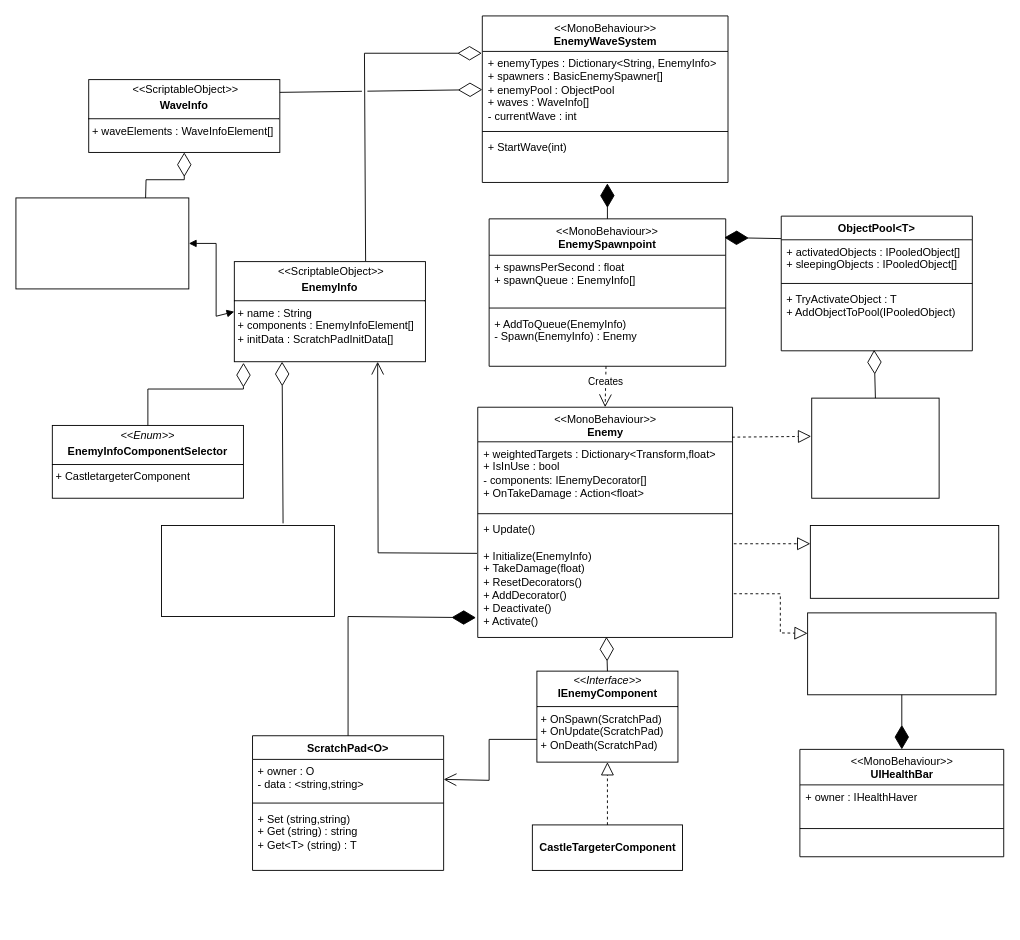
Some shapes in this 1020 by 940 pixel diagram are drawn without their labels. Here are the shapes that lost their labels. From the top down, the centre of each, then its label:
At (x=102, y=243): "<<Struct>> WaveInfoElement + enemyTypeName : String + spawnAmount : int".
At (x=875, y=447): "<<Interface>> IPooledObject + IsInUse : bool + Deactivate() + Activate()".
At (x=247, y=571): "<<Struct>> ScratchPadInitData + key : string + value : string".
At (x=904, y=561): "<<Interface>> IDamageable + TakeDamage(float)".
At (x=901, y=653): "<<Interface>> IHealthHaver + Health : float + OnHealthChanged: Action<float>".
